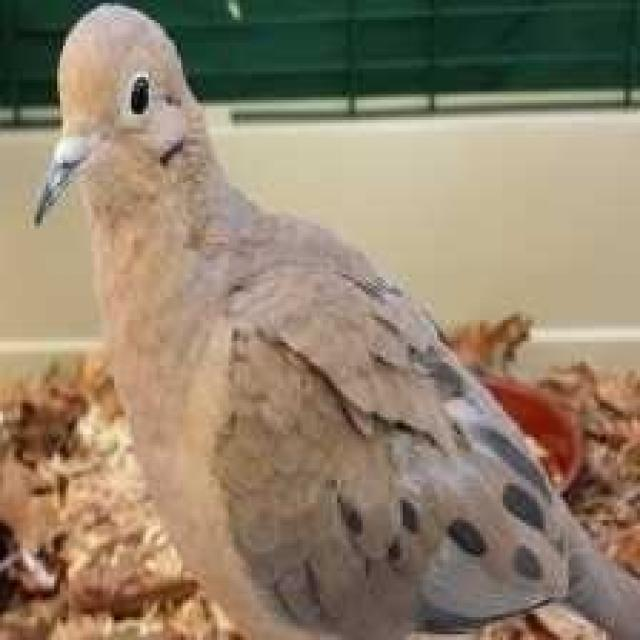bird: (26, 1, 640, 640)
